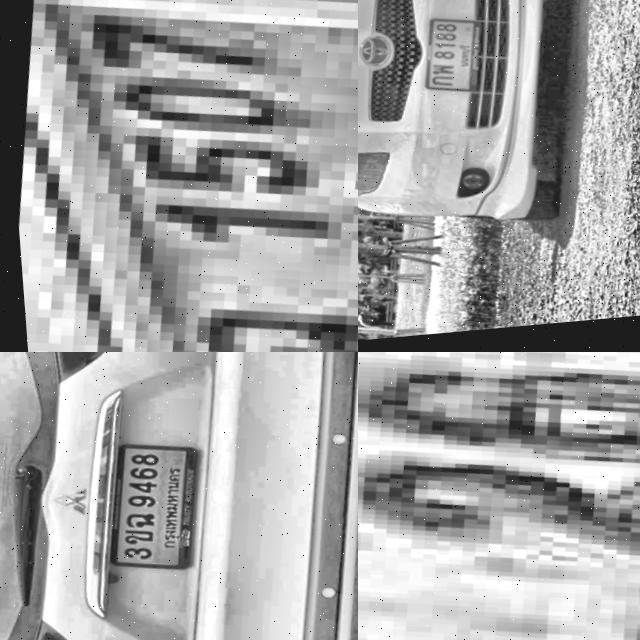license-plate: (0, 0, 358, 352), (358, 352, 640, 640), (95, 440, 204, 583), (405, 17, 491, 109)
